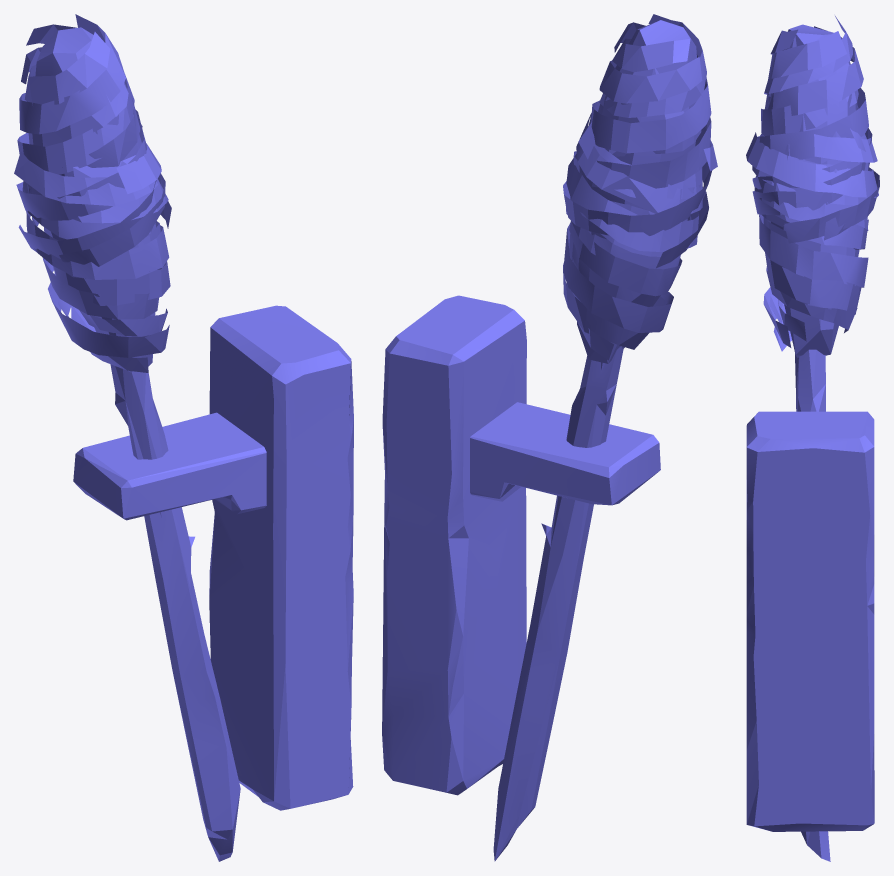
Rendered from SM_Dummy_Torch.fbx.
3 views of the same model, side by side, from view 1: azimuth 30°, elevation 25°; view 2: azimuth 150°, elevation 25°; view 3: azimuth 270°, elevation 25° (orthographic). The views are drawn at different scales.
Parts seen in each view (by area): view 1: SM_Dummy_Torch; view 2: SM_Dummy_Torch; view 3: SM_Dummy_Torch.
Part boxes in pixels (x1,y1,x2,y2): SM_Dummy_Torch: [14, 14, 353, 861]; SM_Dummy_Torch: [382, 14, 717, 861]; SM_Dummy_Torch: [746, 16, 879, 861].
Size of the model in its own units: 33.49 by 14.64 by 92.99.
Materials: 1 (1 with a texture image).
